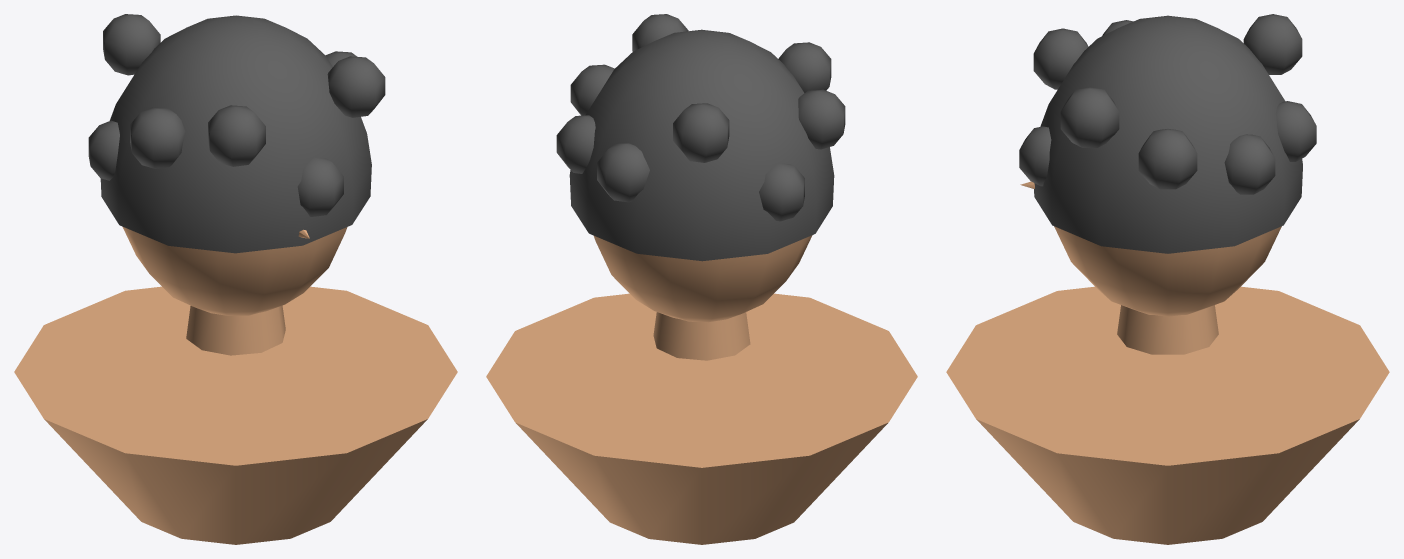
File: raw_002.glb
The picture shows the model from 3 angles, left to right: view 1: azimuth 30°, elevation 25°; view 2: azimuth 150°, elevation 25°; view 3: azimuth 270°, elevation 25°; orthographic projection. The views are drawn at different scales.
Bounding box in the file's own units: 1.83 × 2.15 × 1.83.
